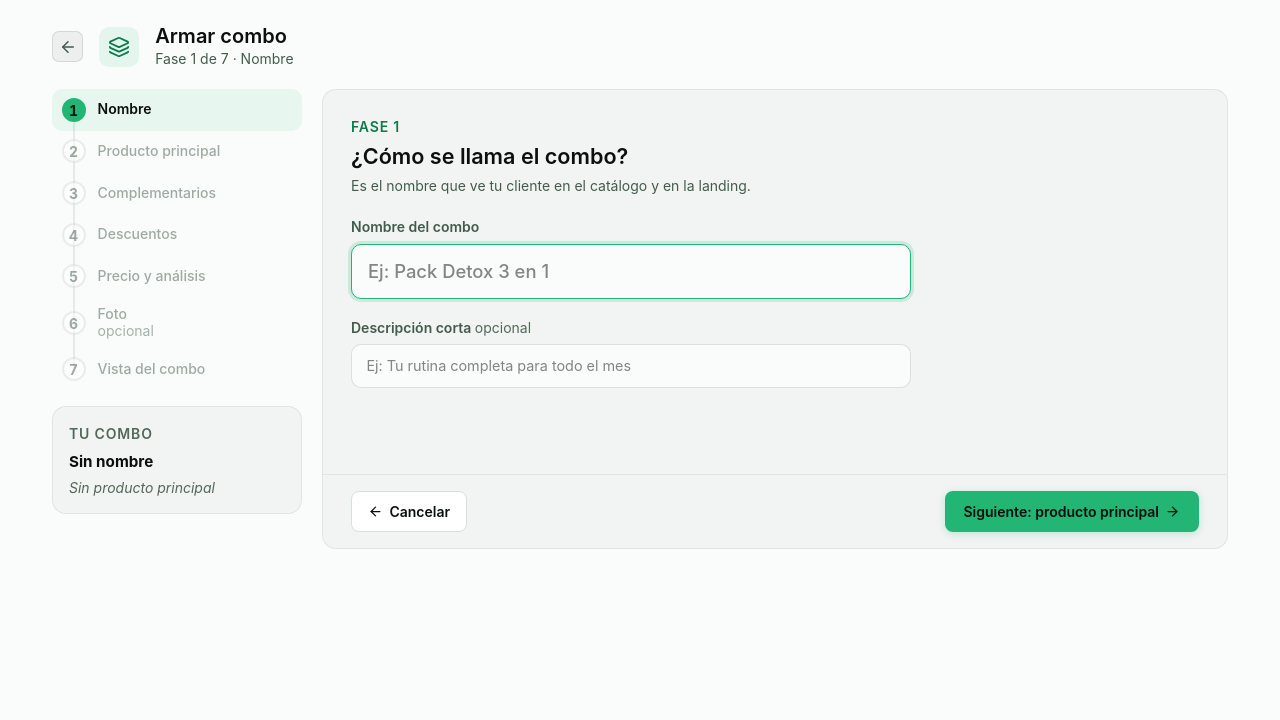
Scenario: Precios de venta durante el armado del combo › rechaza cero sin guardar el precio
Type "Combo cocina QA" into the field with placeholder "Ej: Pack Detox 3 en 1" at {"x": 631, "y": 271}, box [351,244,911,299]
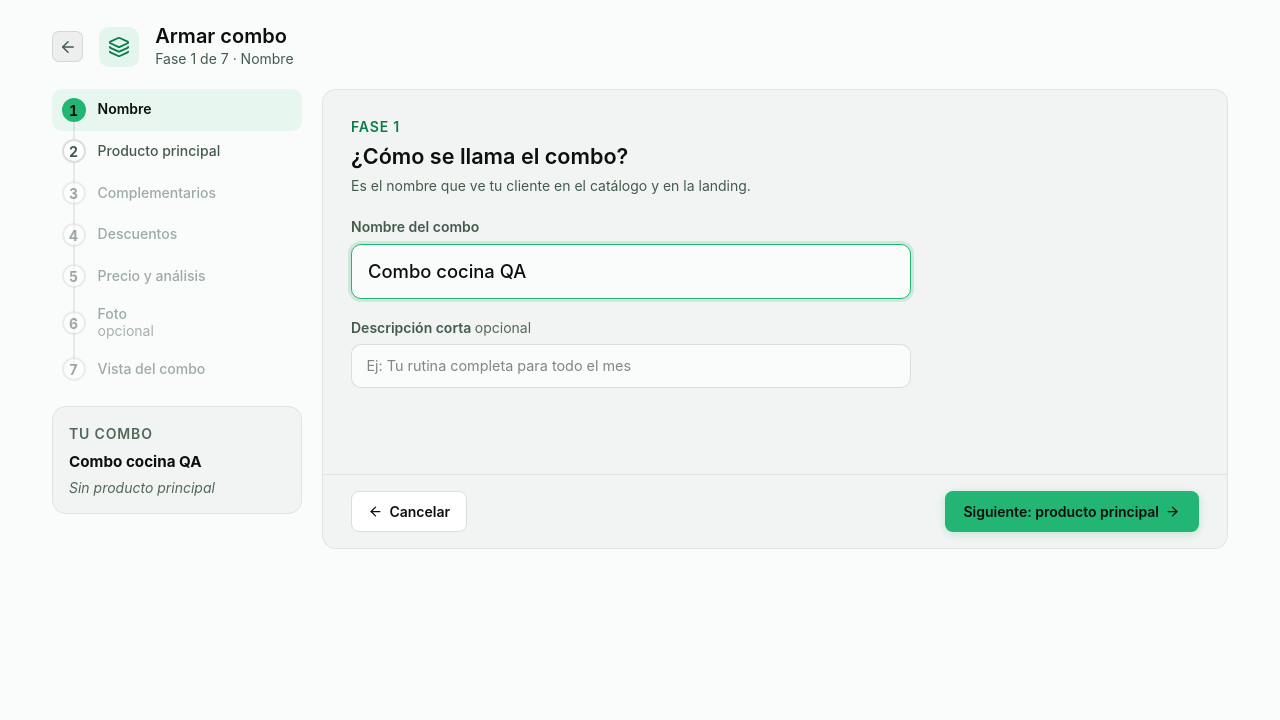
Click the button "Siguiente: producto principal" at {"x": 1072, "y": 512}, box [945,491,1199,532]
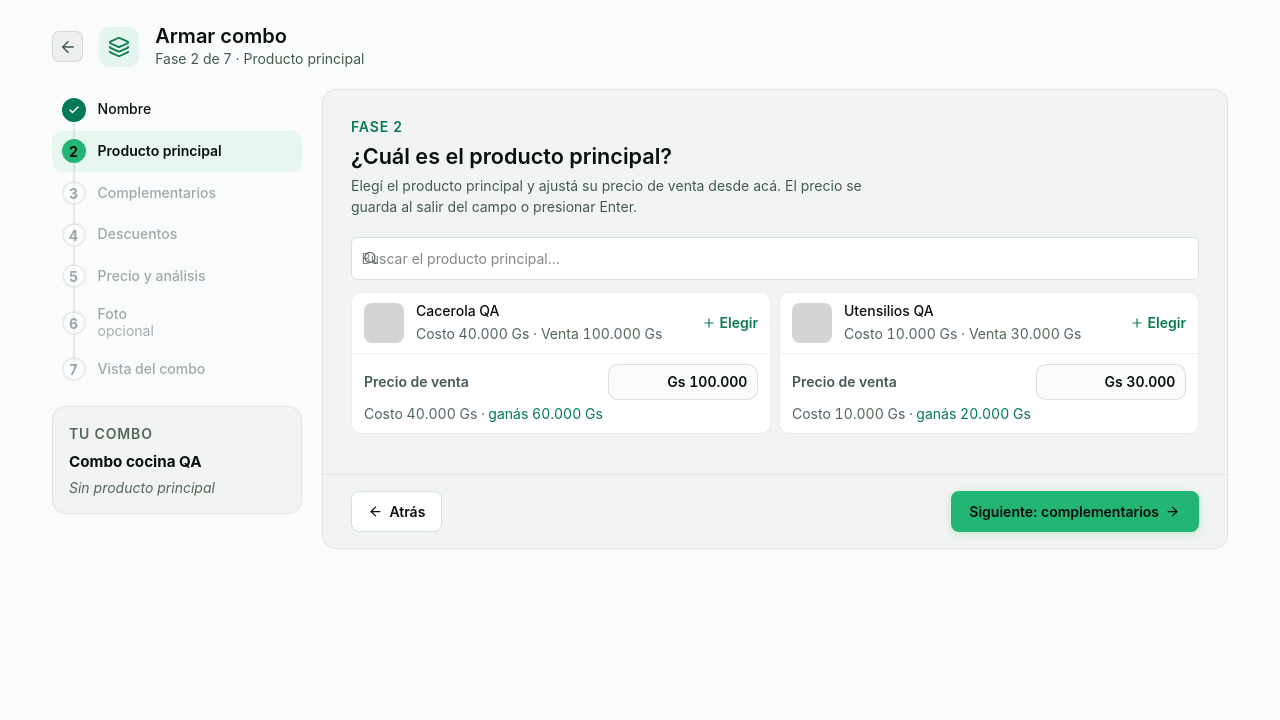
Replace the text in the field named "Precio de venta de Cacerola QA" with "0" at {"x": 683, "y": 382}, box [608,364,758,400]
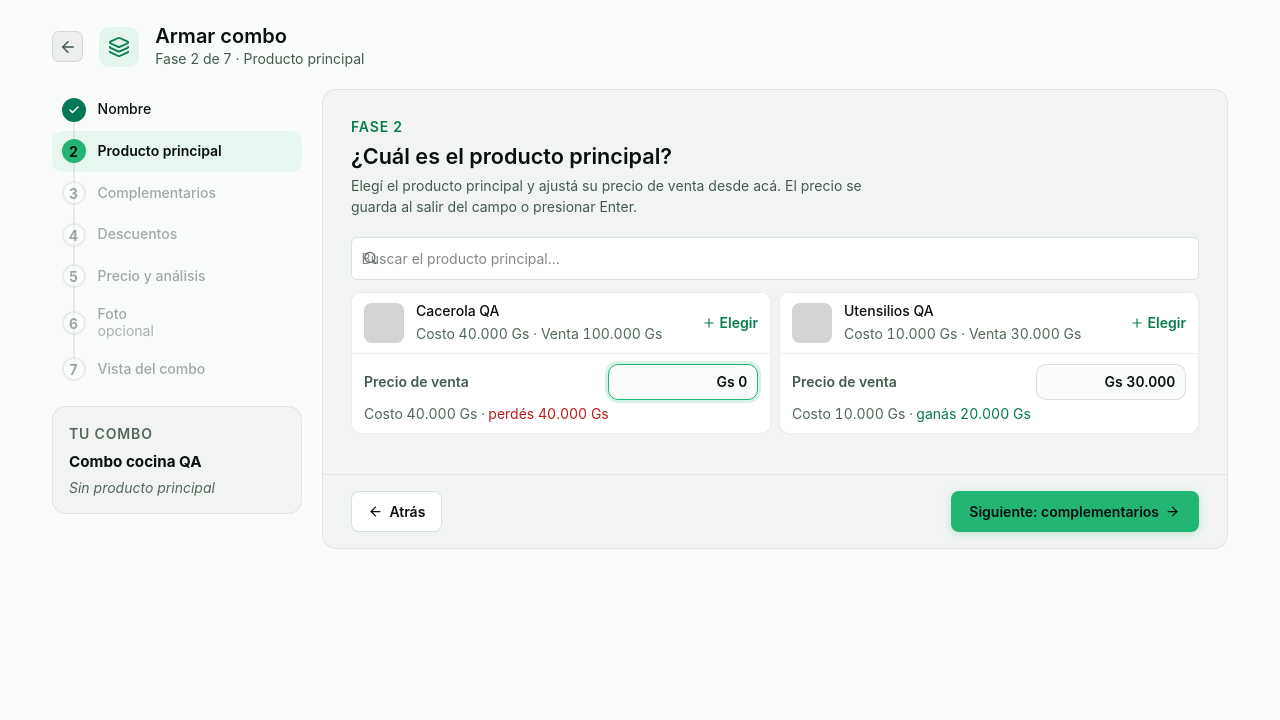
Leave the field named "Precio de venta de Cacerola QA", box [608,364,758,400]
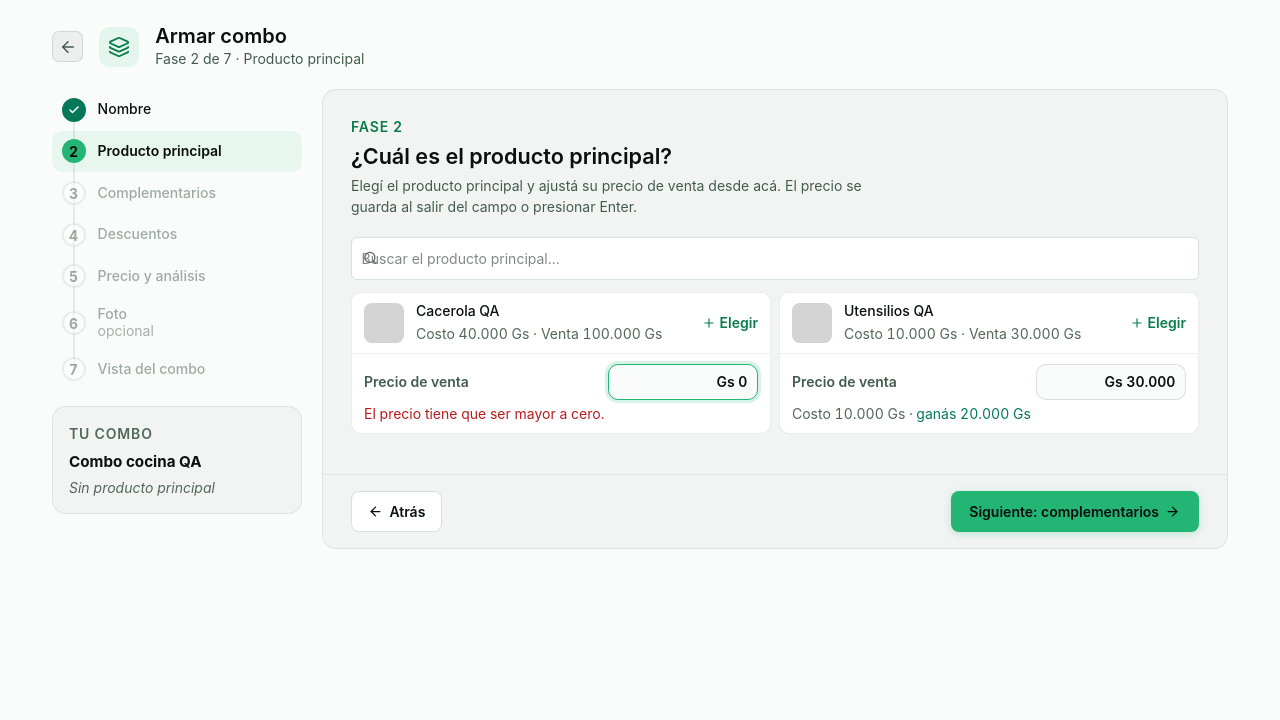
Expected: the text "El precio tiene que ser mayor a cero." is shown, [364,403,624,424]
